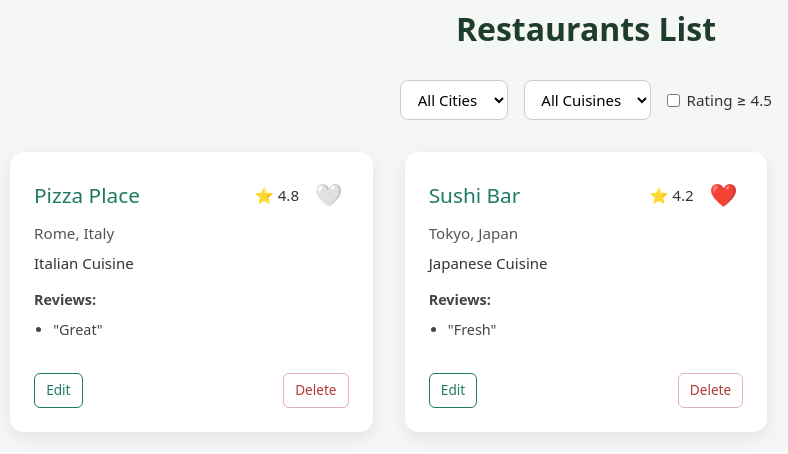
it: RestaurantList.vue › filters restaurants by cuisine
Select "Japanese" in the 2nd dropdown at (587, 100), box [524,80,651,120]
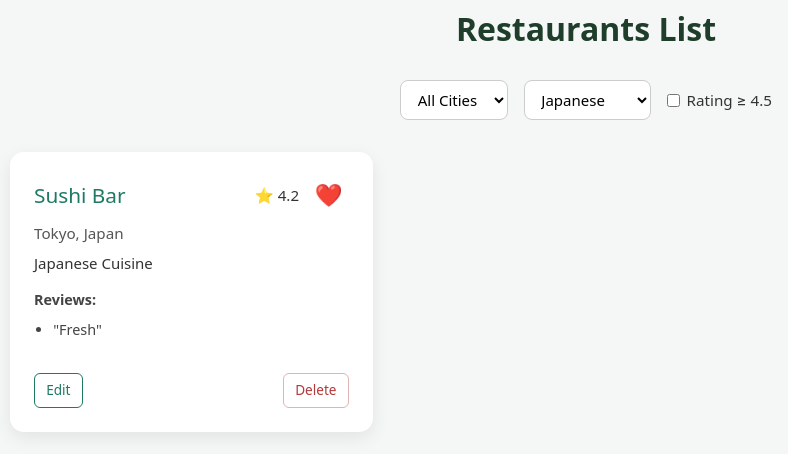
Expected: the text "Sushi Bar" is shown, [34,183,126,208]
Expected: the text "Pizza Place" is gone
